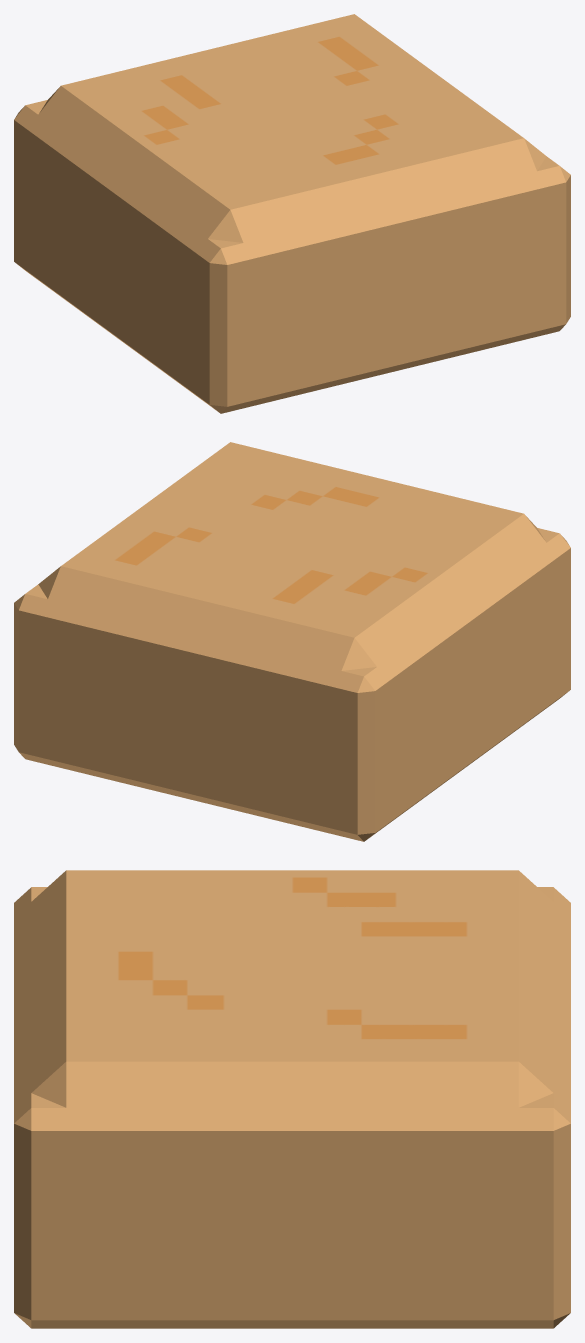
3 views of the same model, one above another, from view 1: azimuth 30°, elevation 25°; view 2: azimuth 150°, elevation 25°; view 3: azimuth 270°, elevation 25° (orthographic). The views are drawn at different scales.
Visible parts, largest first — view 1: Sand4; view 2: Sand4; view 3: Sand4.
Boxes of the visible parts, x1=… form: Sand4: x1=14, y1=14, x2=570, y2=413; Sand4: x1=14, y1=442, x2=570, y2=841; Sand4: x1=14, y1=870, x2=570, y2=1328.
Bounding box in the file's own units: 352 × 176 × 352.
1 material, 1 textured.
